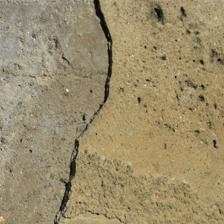Crack: (29, 1, 89, 219)
